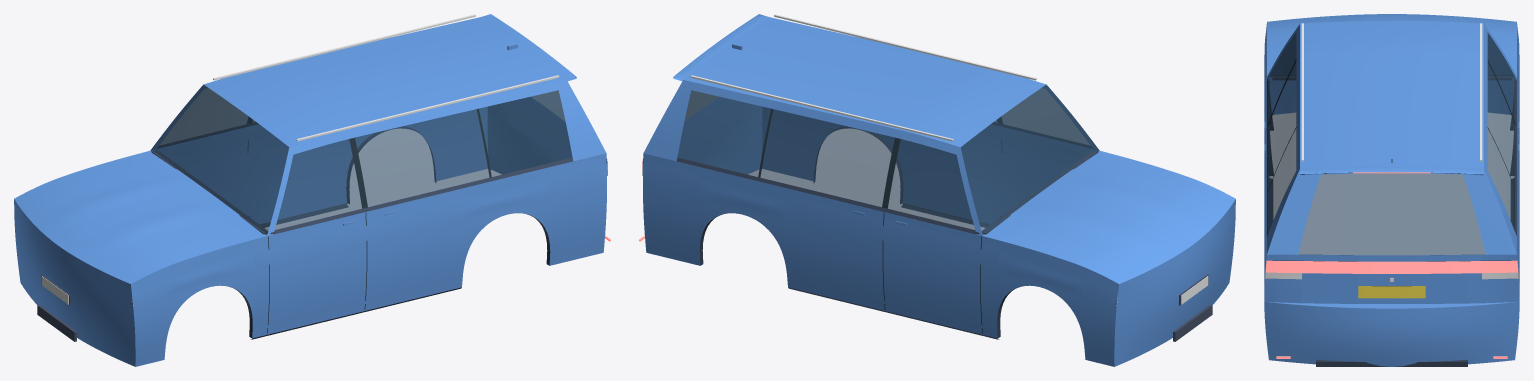
The model's file is suv.glb.
The picture shows the model from 3 angles, left to right: view 1: azimuth 30°, elevation 25°; view 2: azimuth 150°, elevation 25°; view 3: azimuth 270°, elevation 25°; orthographic projection. The views are drawn at different scales.
Parts seen in each view (by area): view 1: BodyShell, Tailgate; view 2: BodyShell, Tailgate; view 3: BodyShell, Tailgate.
Boxes of the visible parts, x1=… form: BodyShell: x1=14, y1=14, x2=610, y2=366; Tailgate: x1=481, y1=14, x2=576, y2=159; BodyShell: x1=639, y1=14, x2=1235, y2=366; Tailgate: x1=673, y1=14, x2=768, y2=159; BodyShell: x1=1264, y1=14, x2=1519, y2=366; Tailgate: x1=1267, y1=166, x2=1516, y2=303.
Size of the model in its own units: 457 by 152 by 186.
